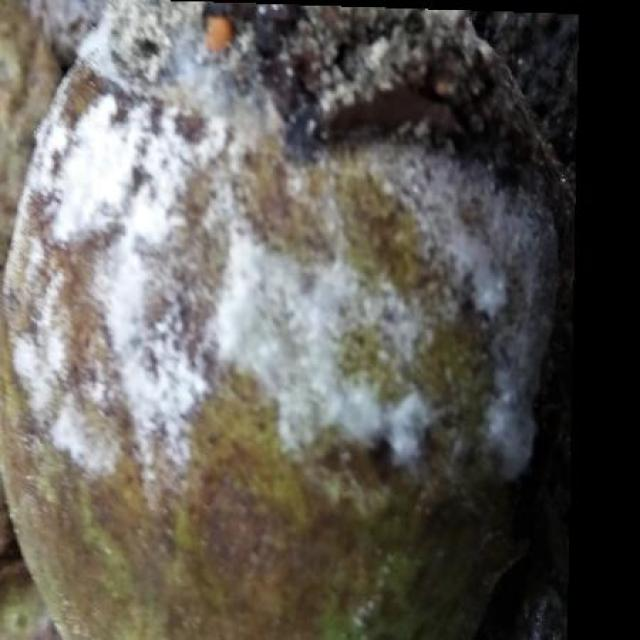Phytopthora: (0, 1, 568, 639)
